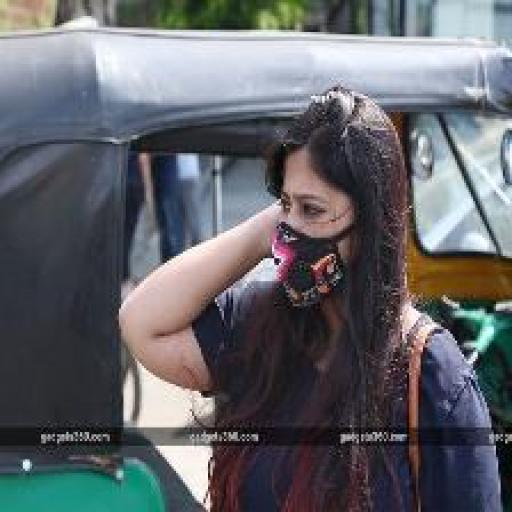mask: (264, 220, 362, 316)
